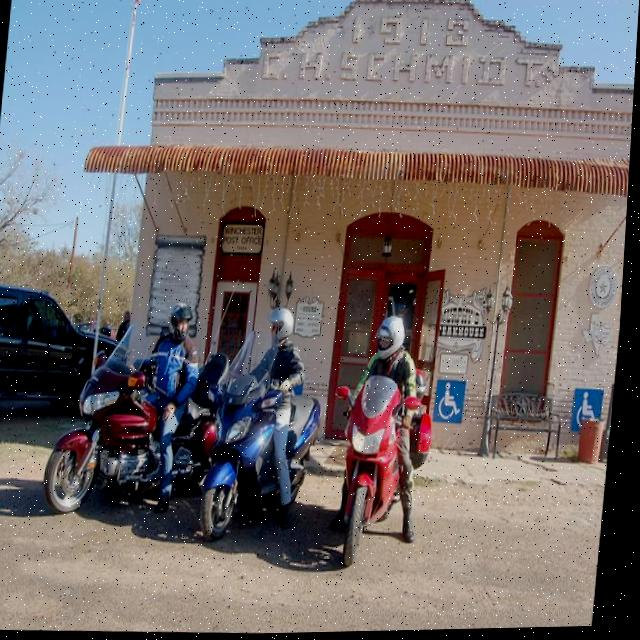car: (0, 269, 108, 433)
motorcycle: (323, 330, 435, 564), (178, 364, 322, 545), (45, 355, 183, 514)
